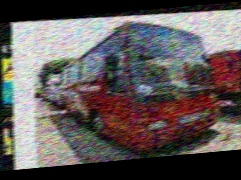bus: (46, 9, 231, 165)
